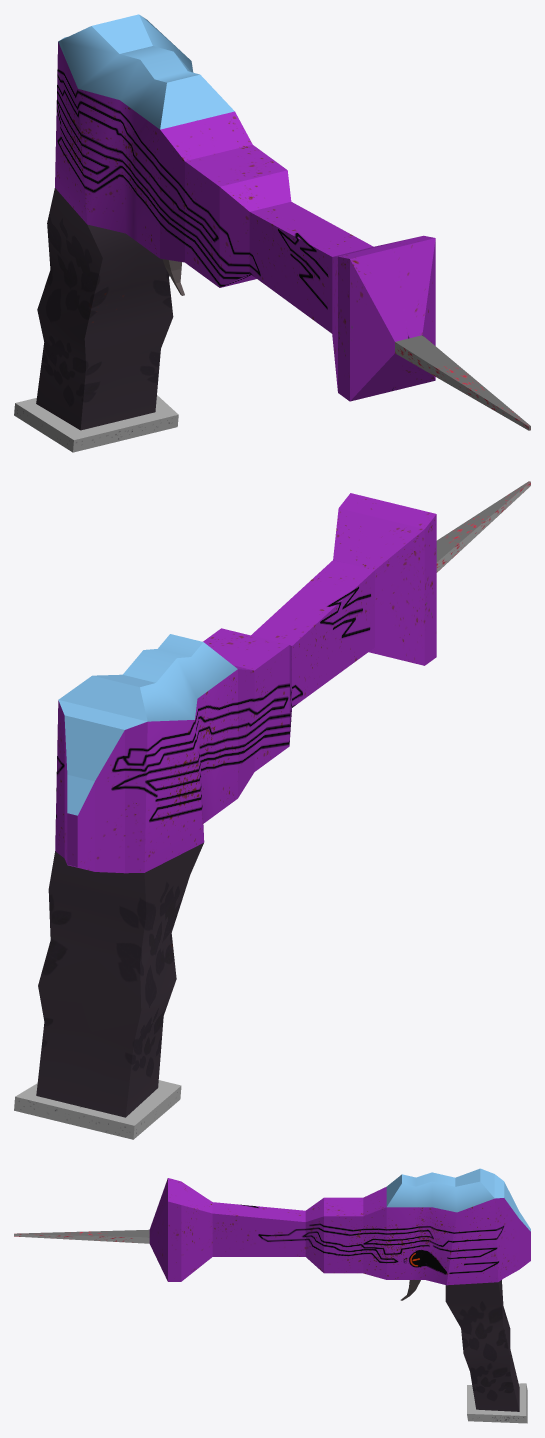
Rendered from extractor.obj.
3 renders of one model, top to bottom at view 1: azimuth 30°, elevation 25°; view 2: azimuth 150°, elevation 25°; view 3: azimuth 270°, elevation 25°, orthographic. The views are drawn at different scales.
Visible parts, largest first — view 1: extractorOBJ:RoadKillOut; view 2: extractorOBJ:RoadKillOut; view 3: extractorOBJ:RoadKillOut.
Part boxes in pixels (x1,y1,x2,y2): extractorOBJ:RoadKillOut: [14, 14, 530, 452]; extractorOBJ:RoadKillOut: [14, 481, 530, 1139]; extractorOBJ:RoadKillOut: [14, 1168, 530, 1423].
Bounding box in the file's own units: 4.44 × 14.68 × 29.64.
1 material, 1 textured.
